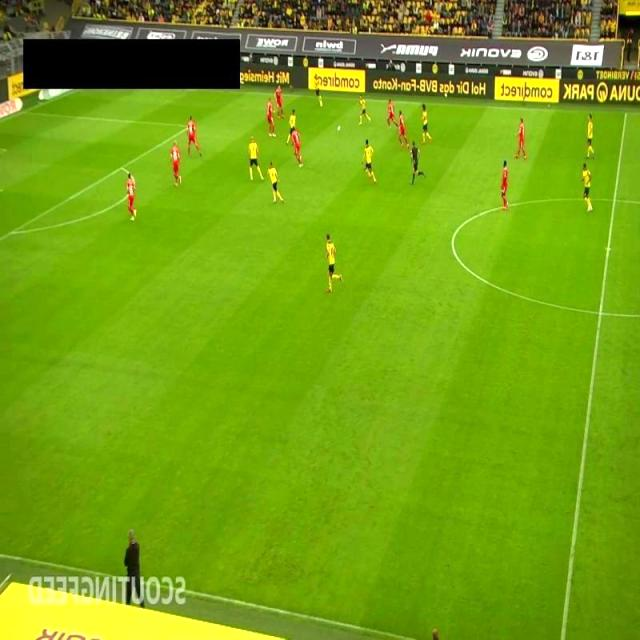bigarea_top_inner: (186, 121, 197, 132)
bigarea_top_outter: (14, 106, 32, 120)
bottom_arc_area_intersection: (3, 226, 20, 240)
halfcircle_bottom: (594, 306, 608, 320)
halfcircle_top: (608, 194, 622, 207)
midline_top_intersection: (621, 107, 632, 118)
smallarea_top_inner: (0, 145, 11, 156)
top_arc_area_intersection: (116, 162, 127, 173)
